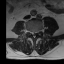CCS_normal: (33, 30, 35, 39)
LFS_stenosis: (37, 28, 39, 34)
LLS_severe_stenosis: (35, 29, 37, 36)
RFS_normal: (29, 28, 31, 35)
RLS_normal: (31, 30, 33, 37)
